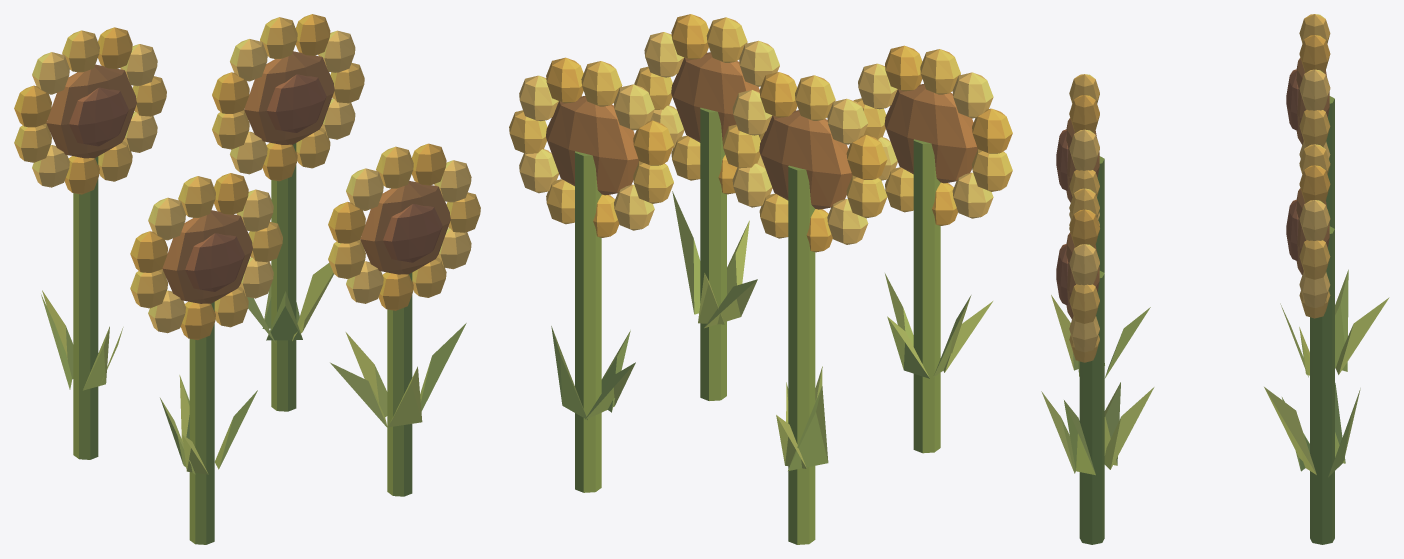
Rendered from crop_sunflower.glb.
The picture shows the model from 3 angles, left to right: view 1: azimuth 30°, elevation 25°; view 2: azimuth 150°, elevation 25°; view 3: azimuth 270°, elevation 25°; orthographic projection. The views are drawn at different scales.
Parts seen in each view (by area): view 1: Reife Sonnenblumen; view 2: Reife Sonnenblumen; view 3: Reife Sonnenblumen.
Boxes of the visible parts, x1=… form: Reife Sonnenblumen: x1=14, y1=14, x2=480, y2=544; Reife Sonnenblumen: x1=509, y1=14, x2=1012, y2=544; Reife Sonnenblumen: x1=1041, y1=14, x2=1389, y2=544.
Size of the model in its own units: 1.05 by 1.24 by 0.9244.
